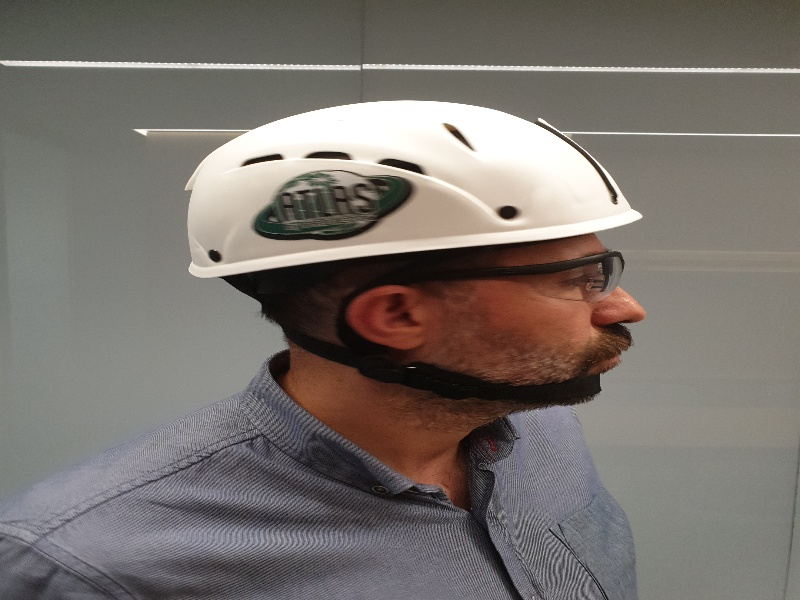Baret: (186, 100, 648, 244)
Gozluk: (387, 251, 621, 301)
